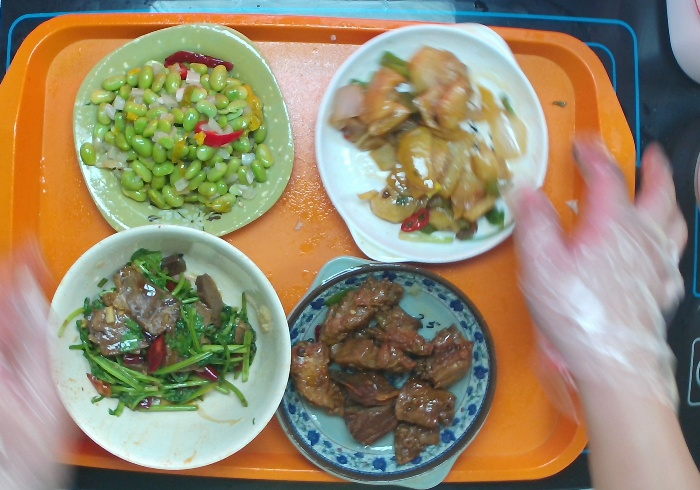NLDX-Bai_Se_Shuang_Er_Die: (310, 20, 552, 266)
NLDX-Bai_Se_Yuan_Wan: (43, 222, 295, 474)
NLDX-Lv_Hua_Fang_Die: (68, 19, 297, 243)
NLDX-Qing_Hua_Shuang_Er_Die: (274, 252, 499, 490)
